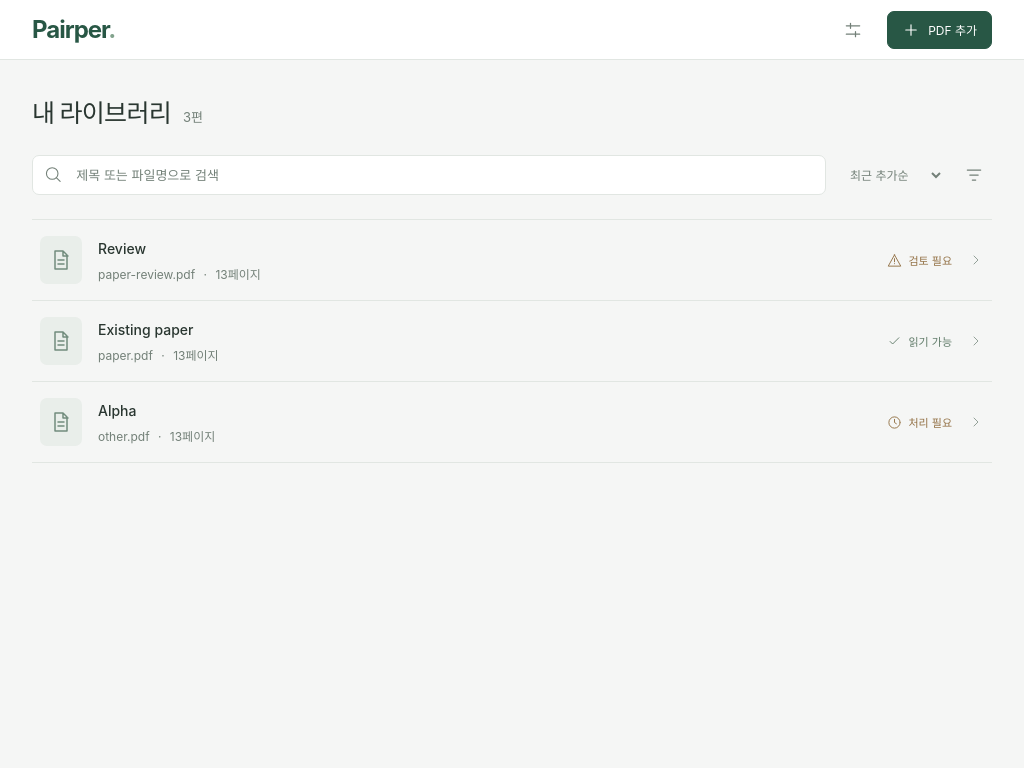
Scenario: combines title/filename search, chronological/title ordering and status filters
The image size is (1024, 768).
Expected: the text "Alpha" is shown, 98,402 -> 136,419
Select "오래된 등록순" in the dropdown named "논문 정렬" at (891, 175), box 838,155 -> 944,195
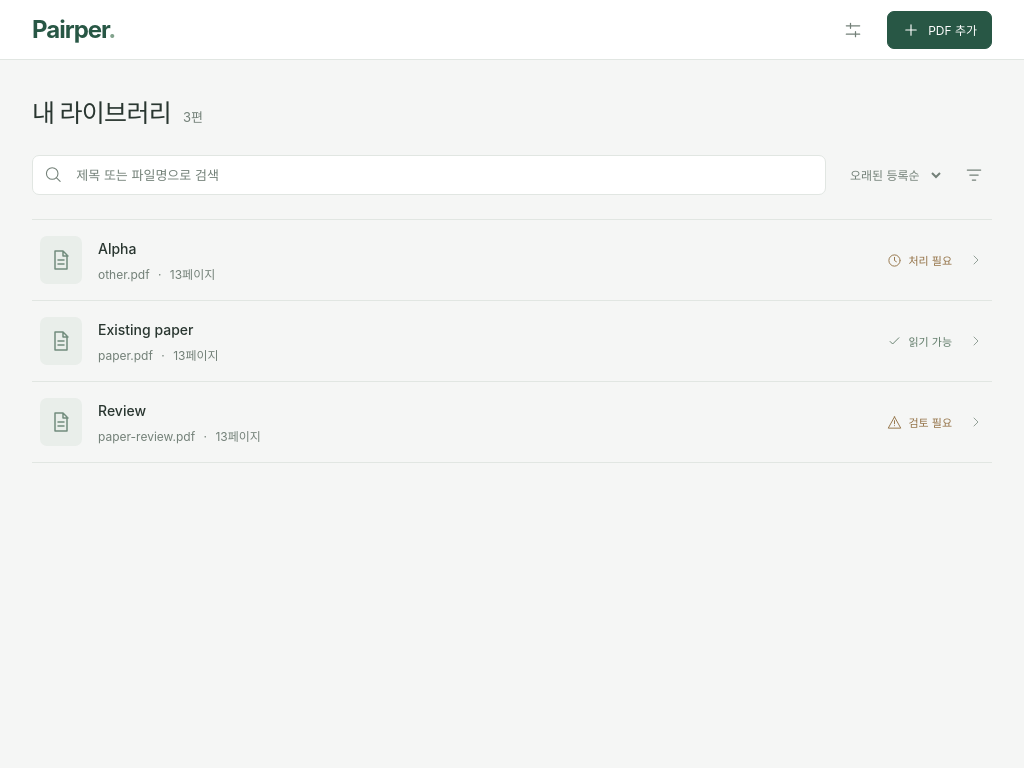
Expected: the button "Alpha other.pdf · 13페이지 처리 필요" is shown, 32,220 -> 992,300
Select "제목순" in the dropdown named "논문 정렬" at (891, 175), box 838,155 -> 944,195
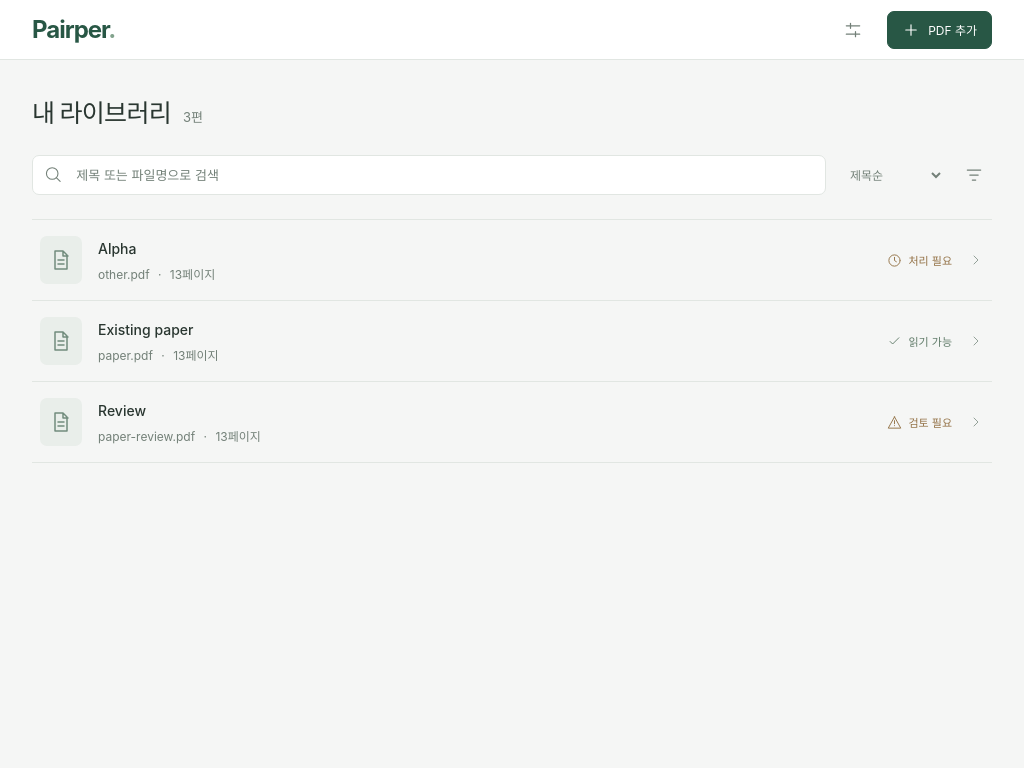
Expected: the button "Alpha other.pdf · 13페이지 처리 필요" is shown, 32,220 -> 992,300
Type "paper" into the field named "논문 검색" at (444, 175), box 74,166 -> 813,184
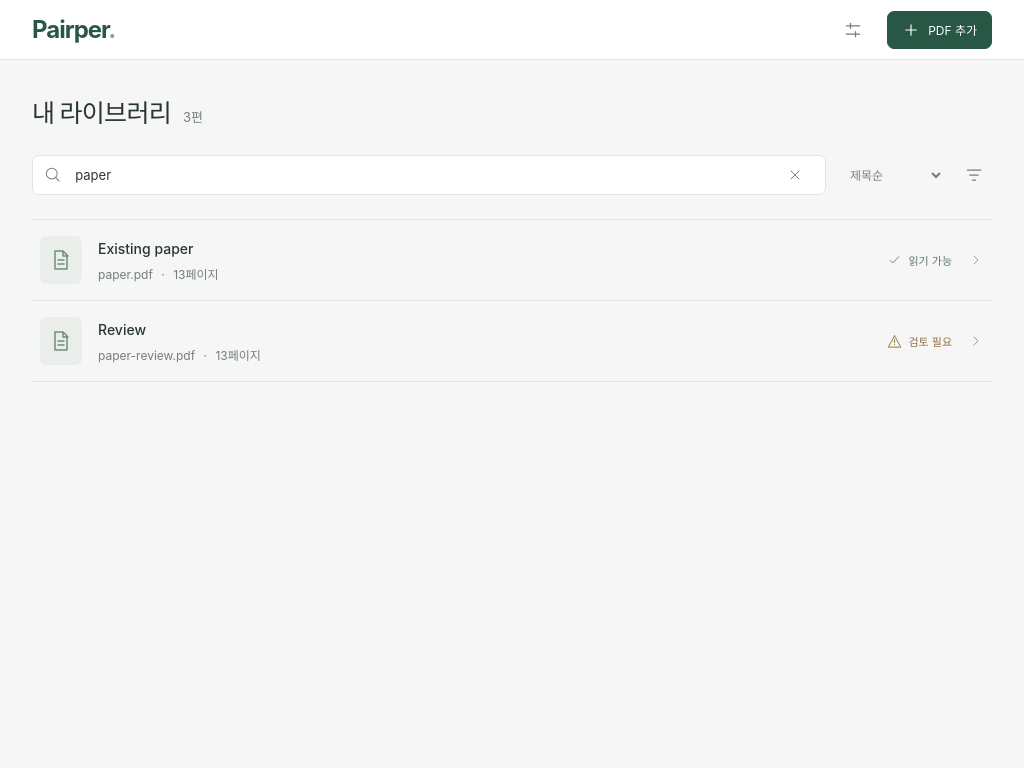
Expected: the button "Alpha" is gone
Click the button named "상태 필터" at (974, 175), box 956,157 -> 992,193
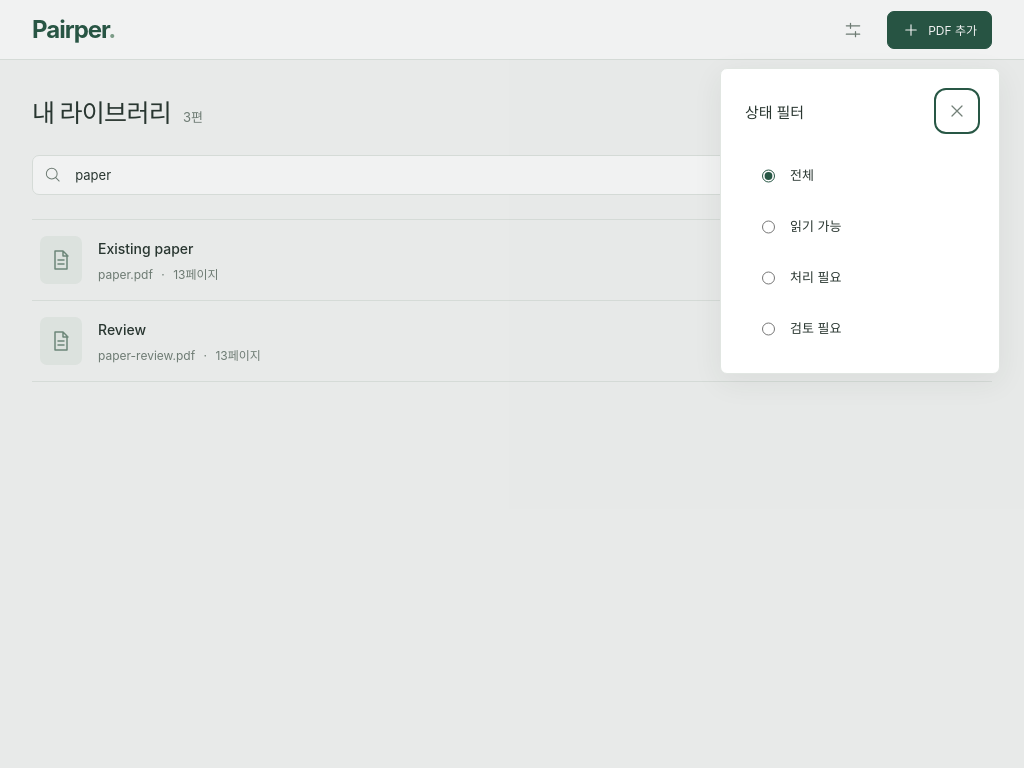
Click the radio button labelled "읽기 가능" at (768, 227), box 762,219 -> 775,235
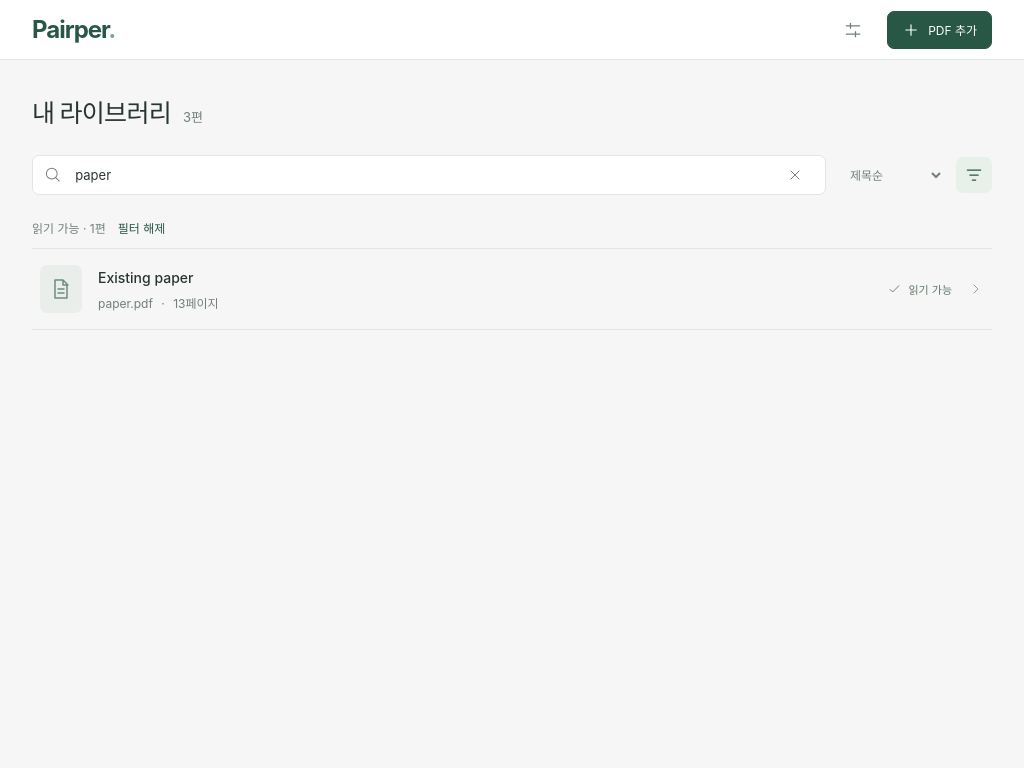
Expected: the button "Existing paper paper.pdf · 13페이지 읽기 가능" is shown, 32,249 -> 992,329
Replace the text in the field named "논문 검색" with "absent" at (419, 175), box 73,166 -> 765,184
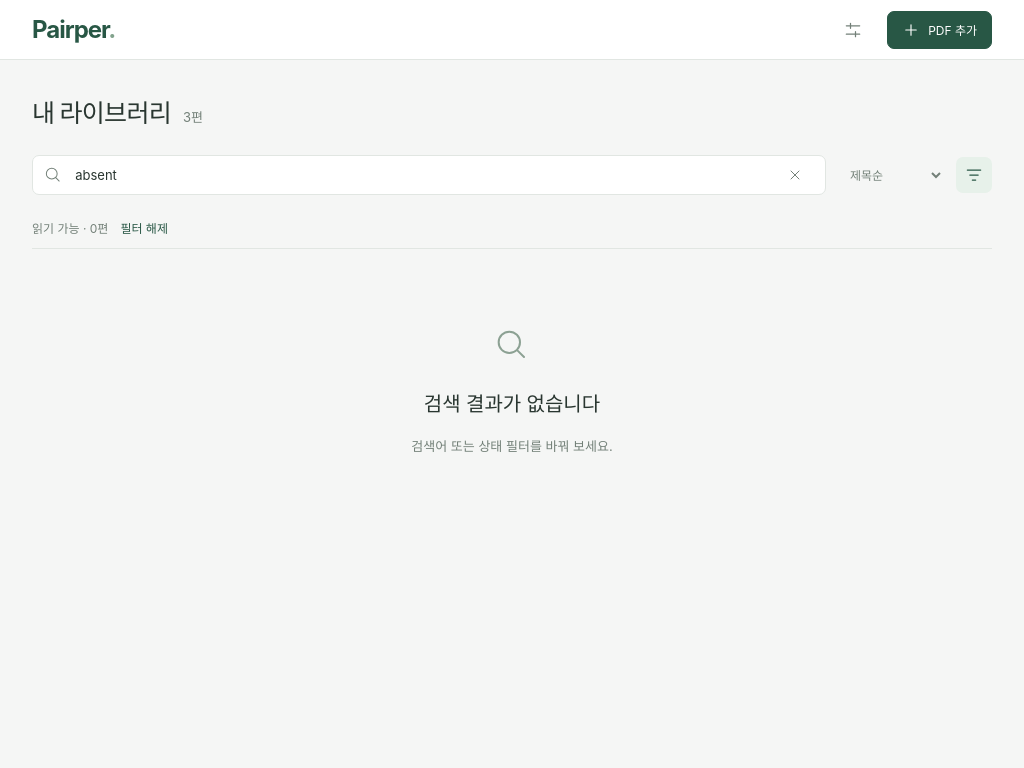
Expected: the heading "검색 결과가 없습니다" is shown, 424,392 -> 600,416
